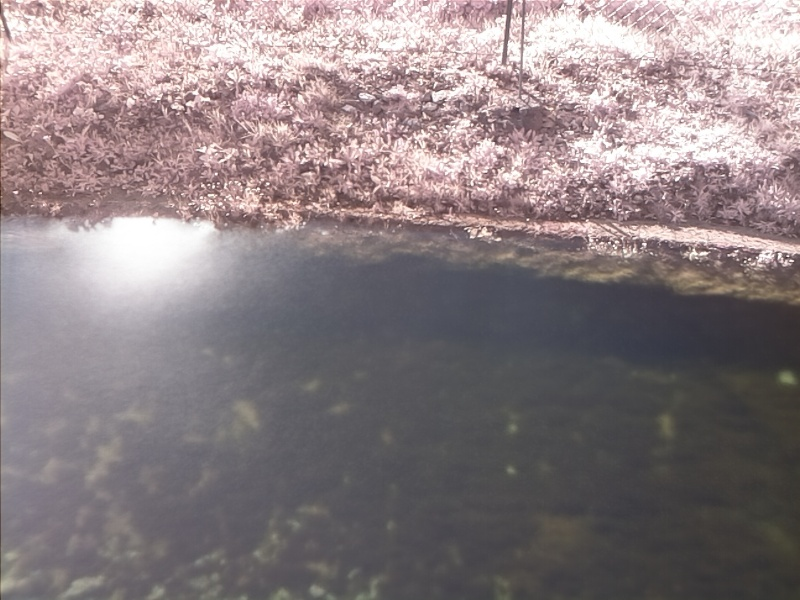Water: (1, 214, 799, 600)
